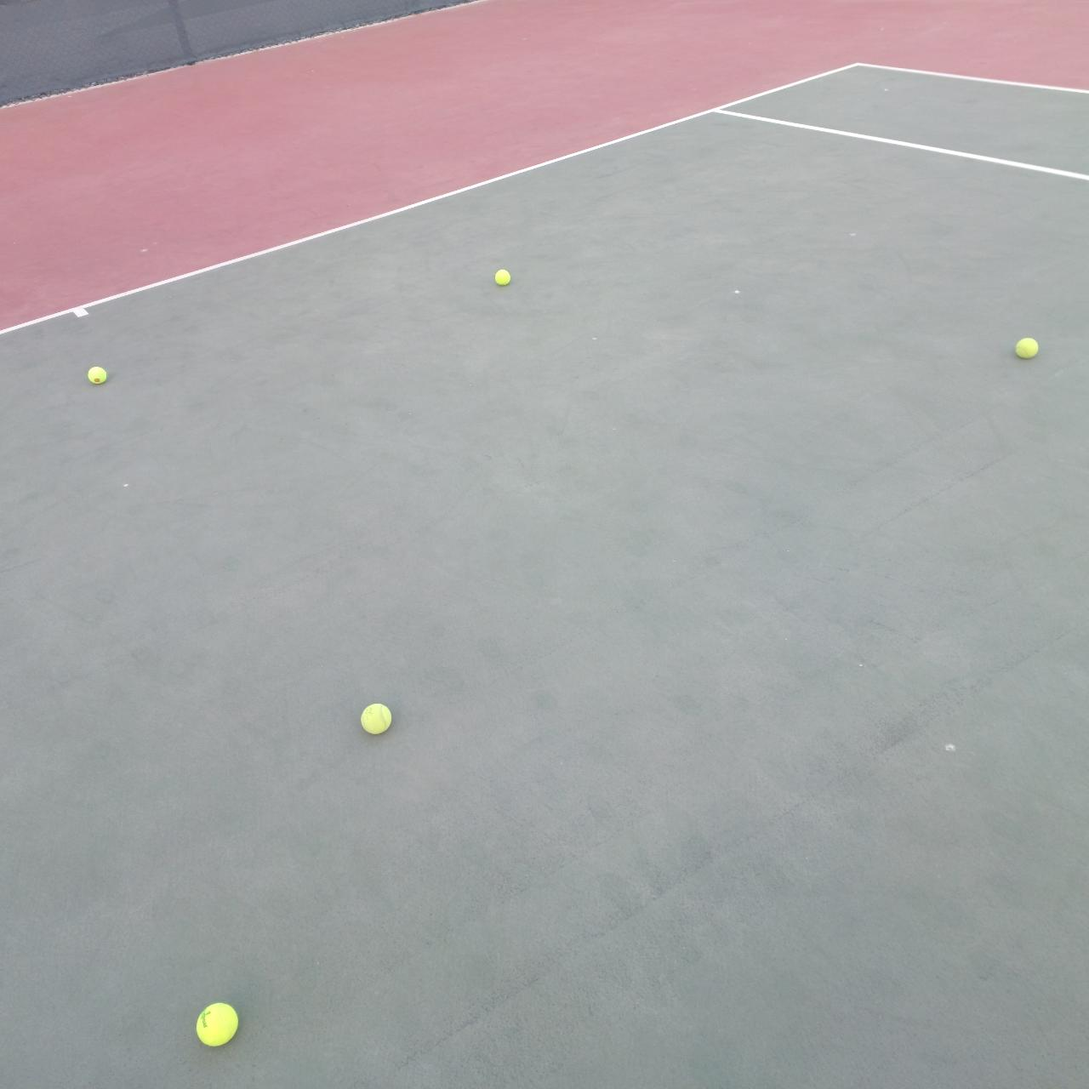tennis-ball: (196, 1000, 241, 1047), (360, 700, 394, 735), (1015, 334, 1041, 359), (88, 363, 110, 385), (494, 266, 513, 286)
